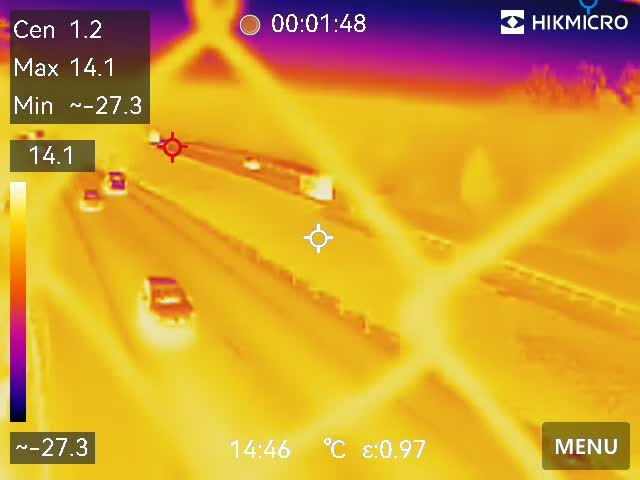vehicle: (131, 270, 201, 331), (105, 164, 131, 199), (78, 186, 101, 215)
